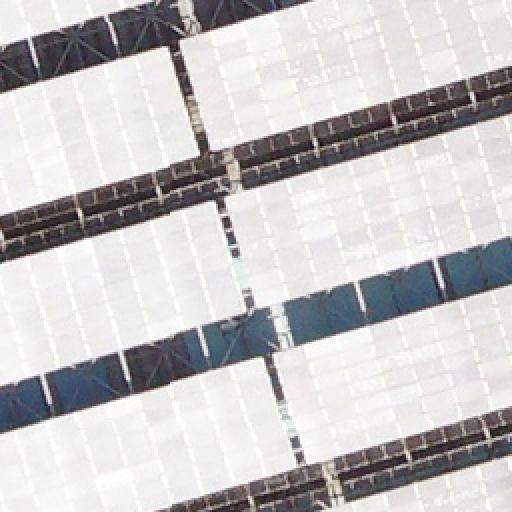solar-panel: (225, 112, 511, 308), (177, 0, 511, 154), (0, 197, 248, 387), (0, 356, 300, 512), (272, 282, 512, 466), (0, 44, 204, 216), (321, 454, 511, 512), (1, 0, 159, 48)
